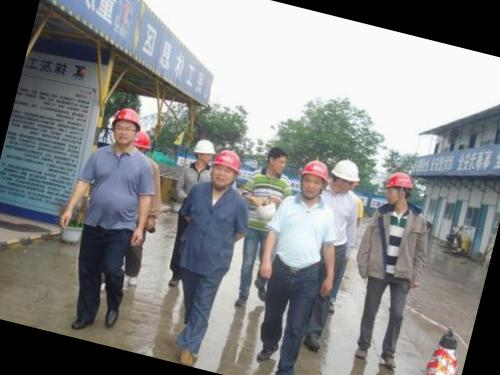no_helmet: (262, 141, 292, 178)
